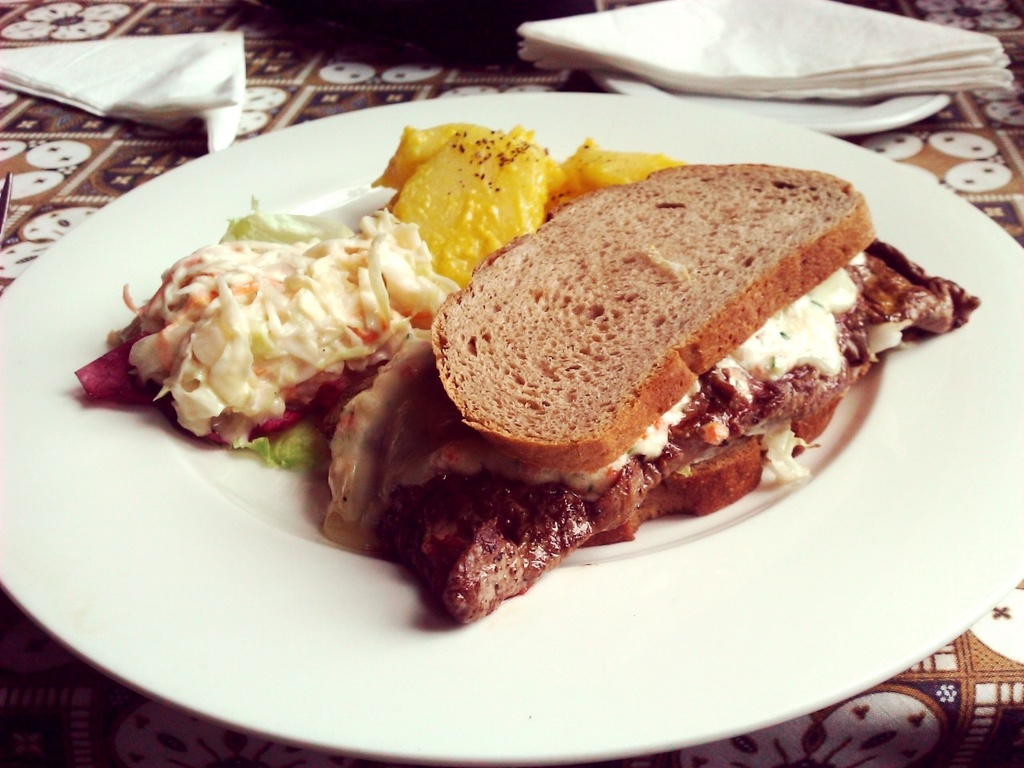sandwich: (318, 162, 980, 630)
